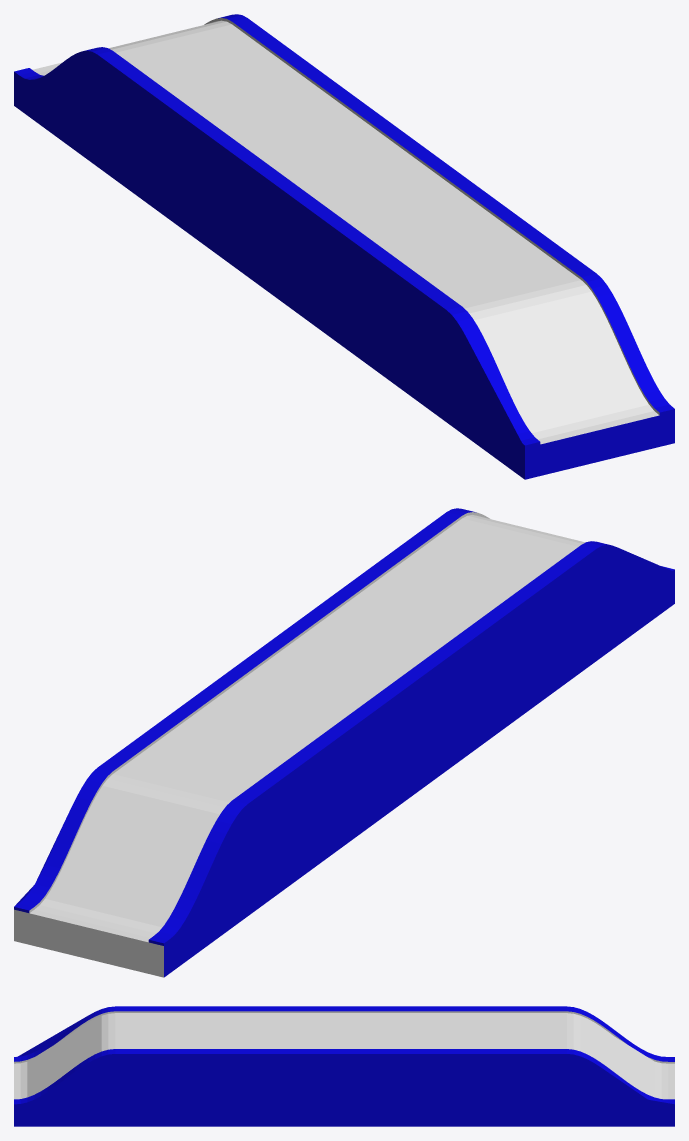
File: SmallRamp.fbx
The picture shows the model from 3 angles, top to bottom: view 1: azimuth 30°, elevation 25°; view 2: azimuth 150°, elevation 25°; view 3: azimuth 270°, elevation 25°; orthographic projection. The views are drawn at different scales.
Parts seen in each view (by area): view 1: Ramp; view 2: Ramp; view 3: Ramp.
Part boxes in pixels (x1=…): Ramp: x1=14, y1=14, x2=674, y2=479; Ramp: x1=14, y1=508, x2=674, y2=977; Ramp: x1=14, y1=1006, x2=674, y2=1126.
Bounding box in the file's own units: 1007 × 720 × 5937.
